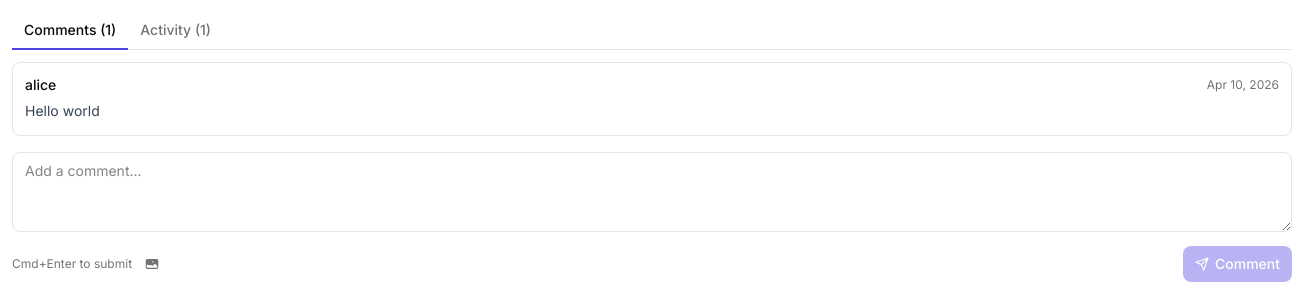
it: CommentsActivityTabs › switches to Activity when its tab is clicked and shows the events filter
This screenshot has width=1304, height=299.
What coordinates should you click on to do the following:
click the tab "Activity (1)"
I would click on:
 (176, 31)
Its box is [128,12,223,50].
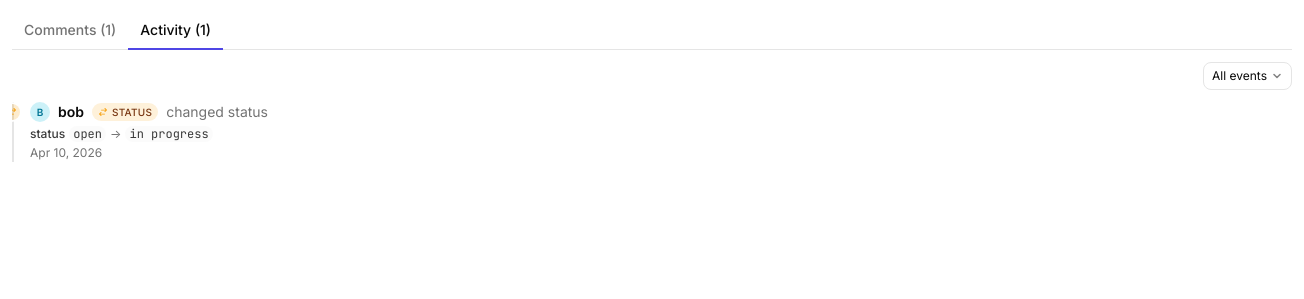
Result: the text "bob" is shown at [58,102,84,122]
Result: the dropdown named "Filter events by type" is shown at [1203,62,1292,90]
Result: the text "Hello world" is gone
